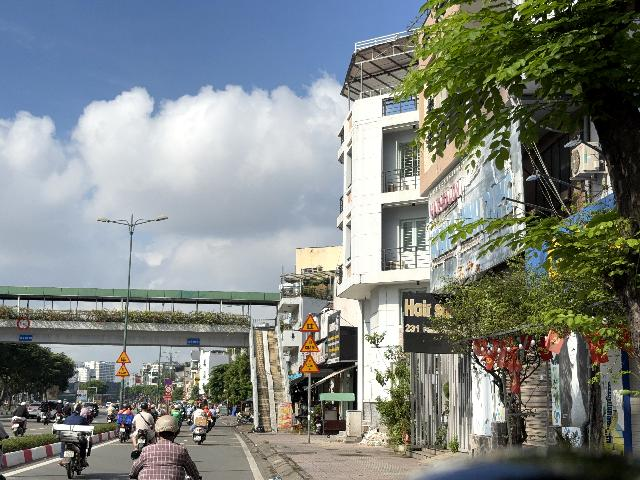chieu-cao-tinh-khong-thuc-te: (299, 353, 320, 373)
di-cham: (299, 335, 321, 352), (115, 364, 130, 377)
han-che-chieu-cao: (17, 317, 30, 330)
noi-giao-nhau-voi-duong-sat-co-rao-chan: (299, 313, 320, 332), (115, 350, 131, 363)
